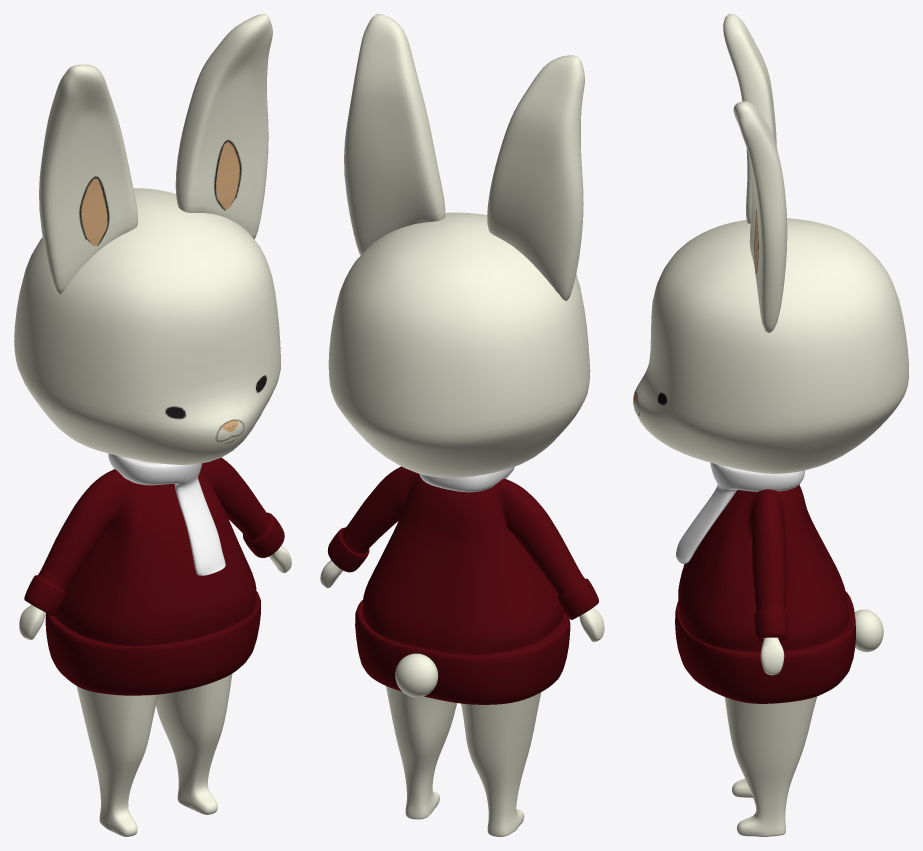
The model's file is StaticConejoR.glb.
The picture shows the model from 3 angles, left to right: view 1: azimuth 30°, elevation 25°; view 2: azimuth 150°, elevation 25°; view 3: azimuth 270°, elevation 25°; orthographic projection. The views are drawn at different scales.
Parts seen in each view (by area): view 1: Thorn_Sketchfab_Thorn_Skin_0, Thorn_Sketchfab_clothing_Thorn_Clothing_0, Thorn_Sketchfab_Scarf_Thorn_Skin_0; view 2: Thorn_Sketchfab_Thorn_Skin_0, Thorn_Sketchfab_clothing_Thorn_Clothing_0, Thorn_Sketchfab_Scarf_Thorn_Skin_0; view 3: Thorn_Sketchfab_Thorn_Skin_0, Thorn_Sketchfab_clothing_Thorn_Clothing_0, Thorn_Sketchfab_Scarf_Thorn_Skin_0.
Boxes of the visible parts, x1,y1,x2,y2 form: Thorn_Sketchfab_Thorn_Skin_0: (14, 14, 291, 836); Thorn_Sketchfab_clothing_Thorn_Clothing_0: (24, 457, 284, 695); Thorn_Sketchfab_Scarf_Thorn_Skin_0: (108, 453, 225, 575); Thorn_Sketchfab_Thorn_Skin_0: (320, 14, 604, 836); Thorn_Sketchfab_clothing_Thorn_Clothing_0: (327, 466, 598, 704); Thorn_Sketchfab_Scarf_Thorn_Skin_0: (419, 467, 514, 492); Thorn_Sketchfab_Thorn_Skin_0: (633, 14, 908, 836); Thorn_Sketchfab_clothing_Thorn_Clothing_0: (675, 485, 856, 703); Thorn_Sketchfab_Scarf_Thorn_Skin_0: (676, 462, 804, 563).
Size of the model in its own units: 1.45 by 3.97 by 1.32.
Materials: 3 (1 with a texture image).
